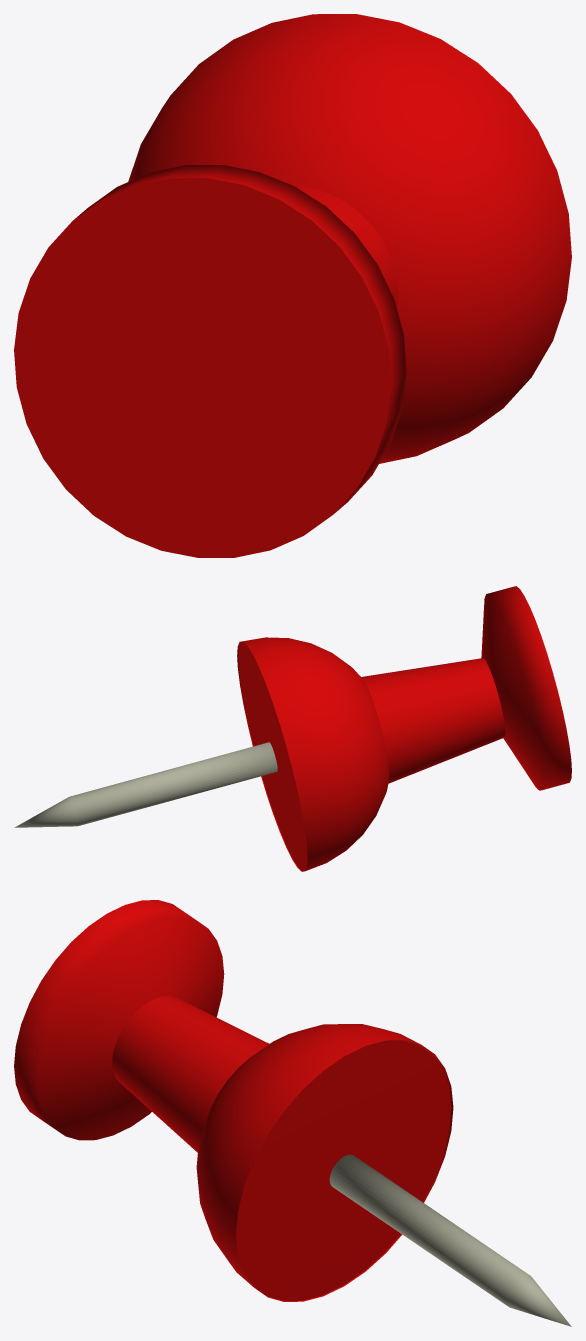
Rendered from pin.dae.
3 views of the same model, one above another, from view 1: azimuth 30°, elevation 25°; view 2: azimuth 150°, elevation 25°; view 3: azimuth 270°, elevation 25° (orthographic). The views are drawn at different scales.
Parts seen in each view (by area): view 1: Cylinder_001; view 2: Cylinder_001; view 3: Cylinder_001.
Part boxes in pixels (x1,y1,x2,y2): Cylinder_001: [14, 14, 571, 557]; Cylinder_001: [15, 586, 571, 871]; Cylinder_001: [14, 900, 571, 1326].
Bounding box in the file's own units: 4.48 × 4.35 × 2.58.
